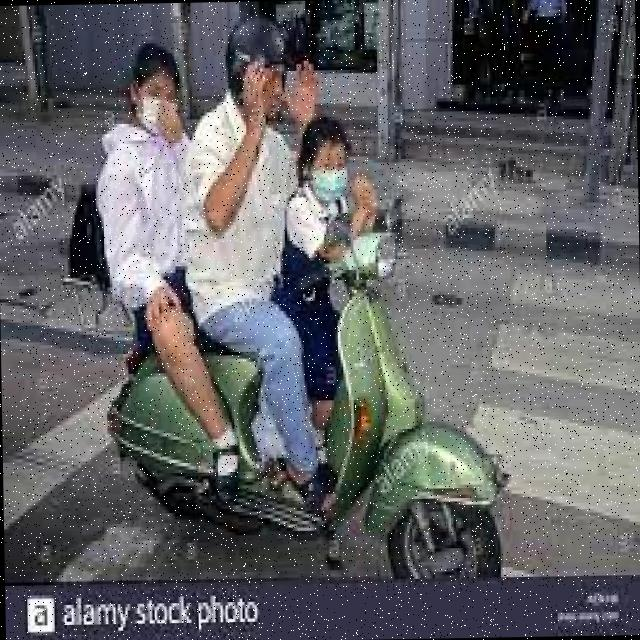Triple riding: (114, 10, 366, 369)
